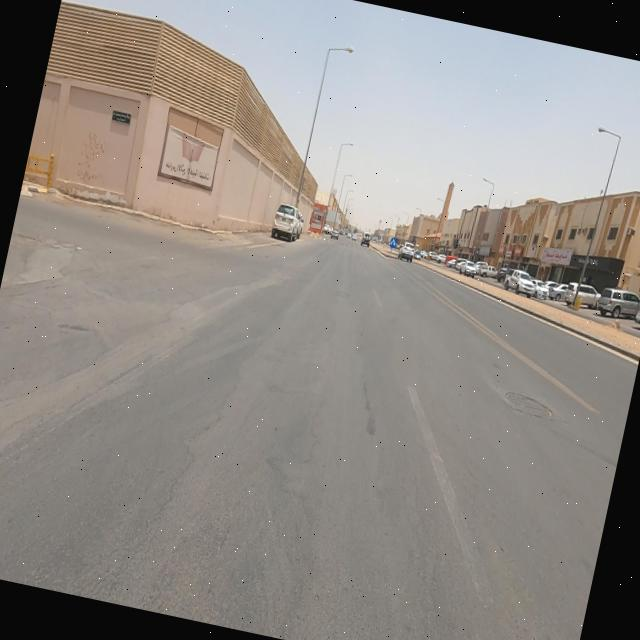Graffiti: (76, 130, 115, 188)
